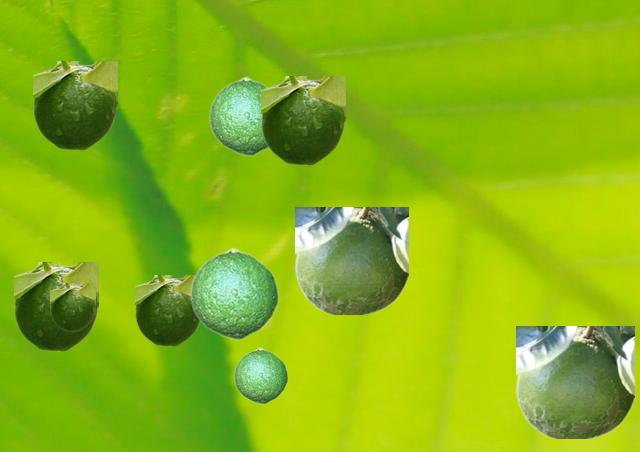dalandan: (516, 326, 633, 437), (295, 207, 407, 313), (189, 247, 278, 339), (14, 262, 97, 350), (261, 76, 344, 164), (33, 61, 116, 149), (208, 76, 268, 155), (135, 275, 200, 345), (233, 347, 287, 403), (50, 283, 94, 330)
